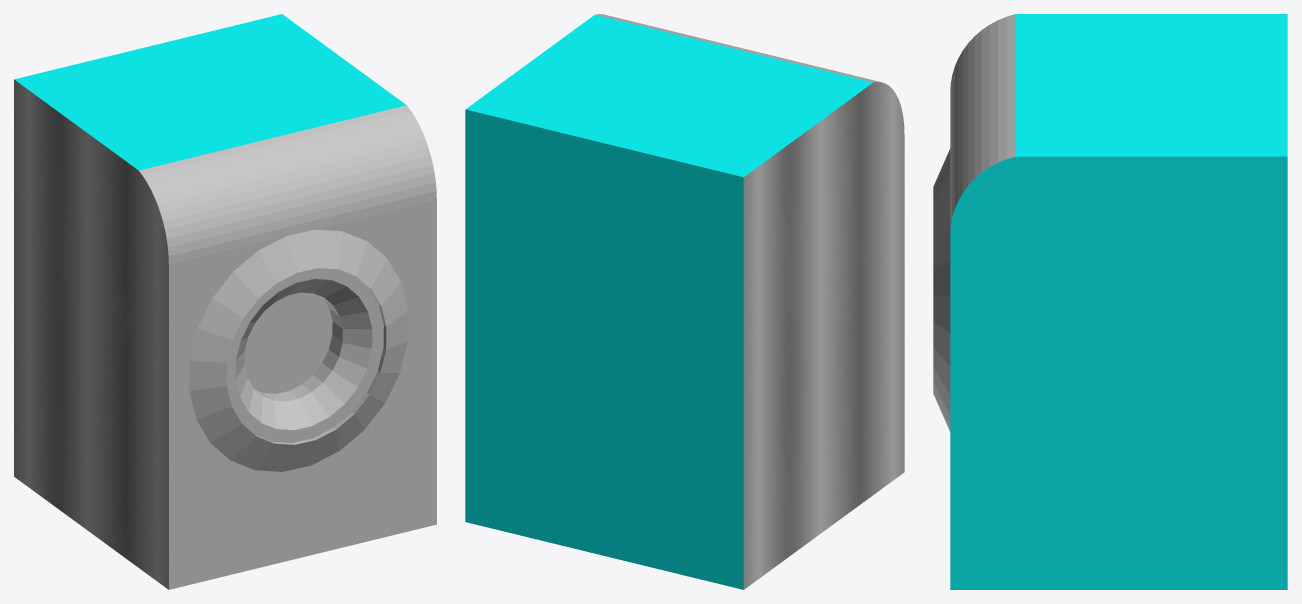
File: maquina_de_lavar_roupas_sansung.glb
The picture shows the model from 3 angles, left to right: view 1: azimuth 30°, elevation 25°; view 2: azimuth 150°, elevation 25°; view 3: azimuth 270°, elevation 25°; orthographic projection. The views are drawn at different scales.
Visible parts, largest first — view 1: mesh_2_ROOT_VISTA 04_140_140_141_ds, mesh_1_ROOT_VISTA 04_193_193_193_ss, mesh_3_ROOT_VISTA 04_140_140_141_ss, mesh_0_ROOT_VISTA 04_0_255_255_ss; view 2: mesh_0_ROOT_VISTA 04_0_255_255_ss, mesh_1_ROOT_VISTA 04_193_193_193_ss, mesh_3_ROOT_VISTA 04_140_140_141_ss; view 3: mesh_0_ROOT_VISTA 04_0_255_255_ss, mesh_3_ROOT_VISTA 04_140_140_141_ss, mesh_2_ROOT_VISTA 04_140_140_141_ds.
Part boxes in pixels (bbox=[...]): mesh_2_ROOT_VISTA 04_140_140_141_ds: bbox=[169, 199, 436, 589]; mesh_1_ROOT_VISTA 04_193_193_193_ss: bbox=[14, 79, 168, 589]; mesh_3_ROOT_VISTA 04_140_140_141_ss: bbox=[139, 105, 436, 444]; mesh_0_ROOT_VISTA 04_0_255_255_ss: bbox=[14, 14, 406, 170]; mesh_0_ROOT_VISTA 04_0_255_255_ss: bbox=[465, 14, 872, 589]; mesh_1_ROOT_VISTA 04_193_193_193_ss: bbox=[743, 82, 904, 589]; mesh_3_ROOT_VISTA 04_140_140_141_ss: bbox=[596, 14, 880, 82]; mesh_0_ROOT_VISTA 04_0_255_255_ss: bbox=[950, 14, 1287, 589]; mesh_3_ROOT_VISTA 04_140_140_141_ss: bbox=[950, 14, 1015, 229]; mesh_2_ROOT_VISTA 04_140_140_141_ds: bbox=[933, 148, 950, 431].
Size of the model in its own units: 600 by 850 by 630.
Materials: 4 (1 with a texture image).
